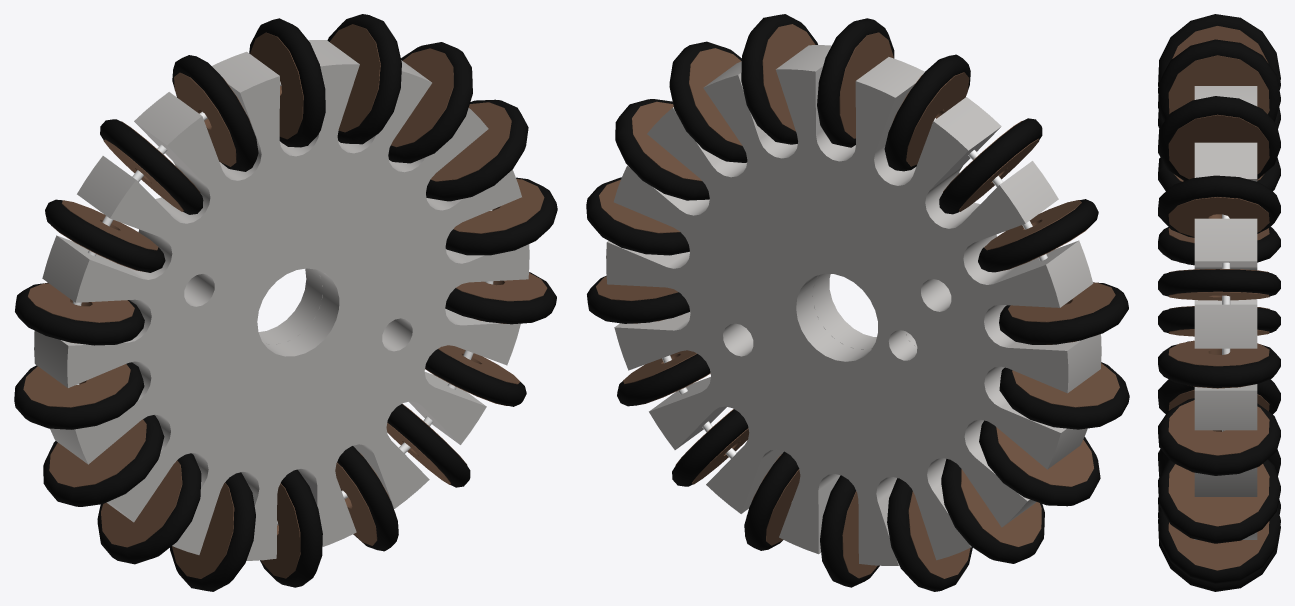
The model's file is omniWheel.obj.
3 renders of one model, left to right at view 1: azimuth 30°, elevation 25°; view 2: azimuth 150°, elevation 25°; view 3: azimuth 270°, elevation 25°, orthographic. The views are drawn at different scales.
Parts seen in each view (by area): view 1: Solido1, Solido1:1, Solido1:17, Solido1:10, Solido1:9, Solido1:18, Solido1:16, Solido1:11, Solido1:8, Solido1:15, Solido1:19, Solido1:12 (+8 smaller); view 2: Solido1:1, Solido1, Solido1:10, Solido1:17, Solido1:16, Solido1:11, Solido1:9, Solido1:18, Solido1:15, Solido1:12, Solido1:8, Solido1:19 (+8 smaller); view 3: Solido1:1, Solido1, Solido1:10, Solido1:5, Solido1:6, Solido1:11, Solido1:9, Solido1:4, Solido1:7, Solido1:8, Solido1:12, Solido1:16 (+6 smaller).
Part boxes in pixels (x1,y1,x2,y2): Solido1: (50,52,529,560); Solido1:1: (34,40,469,509); Solido1:17: (43,415,164,506); Solido1:10: (327,14,401,144); Solido1:9: (388,42,472,163); Solido1:18: (97,453,201,564); Solido1:16: (14,362,144,429); Solido1:11: (249,18,325,147); Solido1:8: (426,99,528,201); Solido1:15: (15,282,144,345); Solido1:19: (170,472,255,591); Solido1:12: (172,55,258,171); Solido1:1: (606,57,1084,565); Solido1: (666,45,1101,513); Solido1:10: (741,14,817,144); Solido1:17: (979,420,1100,506); Solido1:16: (999,362,1129,429); Solido1:11: (817,18,894,147); Solido1:9: (669,41,747,162); Solido1:18: (941,459,1044,563); Solido1:15: (999,282,1128,344); Solido1:12: (884,54,970,171); Solido1:8: (615,99,709,200); Solido1:19: (887,478,972,591); Solido1:1: (1226,86,1257,539); Solido1: (1194,86,1225,539); Solido1:10: (1158,96,1280,180); Solido1:5: (1158,459,1280,543); Solido1:6: (1158,398,1280,475); Solido1:11: (1158,39,1280,121); Solido1:9: (1158,175,1280,237); Solido1:4: (1158,508,1280,584); Solido1:7: (1158,340,1280,388); Solido1:8: (1158,269,1280,300); Solido1:12: (1158,14,1280,87); Solido1:16: (1158,227,1280,265).
Size of the model in its own units: 51.26 by 51.87 by 11.
